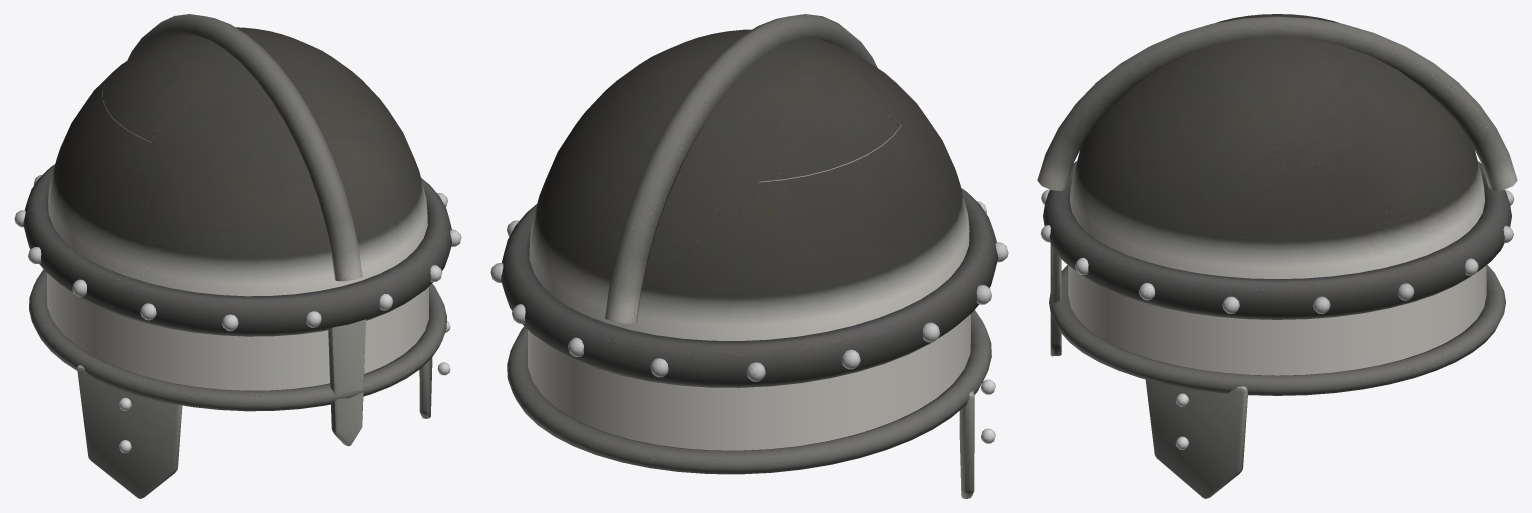
The model's file is iron_helm.glb.
3 renders of one model, left to right at view 1: azimuth 30°, elevation 25°; view 2: azimuth 150°, elevation 25°; view 3: azimuth 270°, elevation 25°, orthographic. The views are drawn at different scales.
Visible parts, largest first — view 1: iron_helm; view 2: iron_helm; view 3: iron_helm.
Boxes of the visible parts, x1,y1,x2,y2 form: iron_helm: [14, 14, 461, 498]; iron_helm: [490, 14, 1008, 498]; iron_helm: [1037, 14, 1517, 498].
Bounding box in the file's own units: 0.3226 × 0.329 × 0.3537.
1 material, 1 textured.
